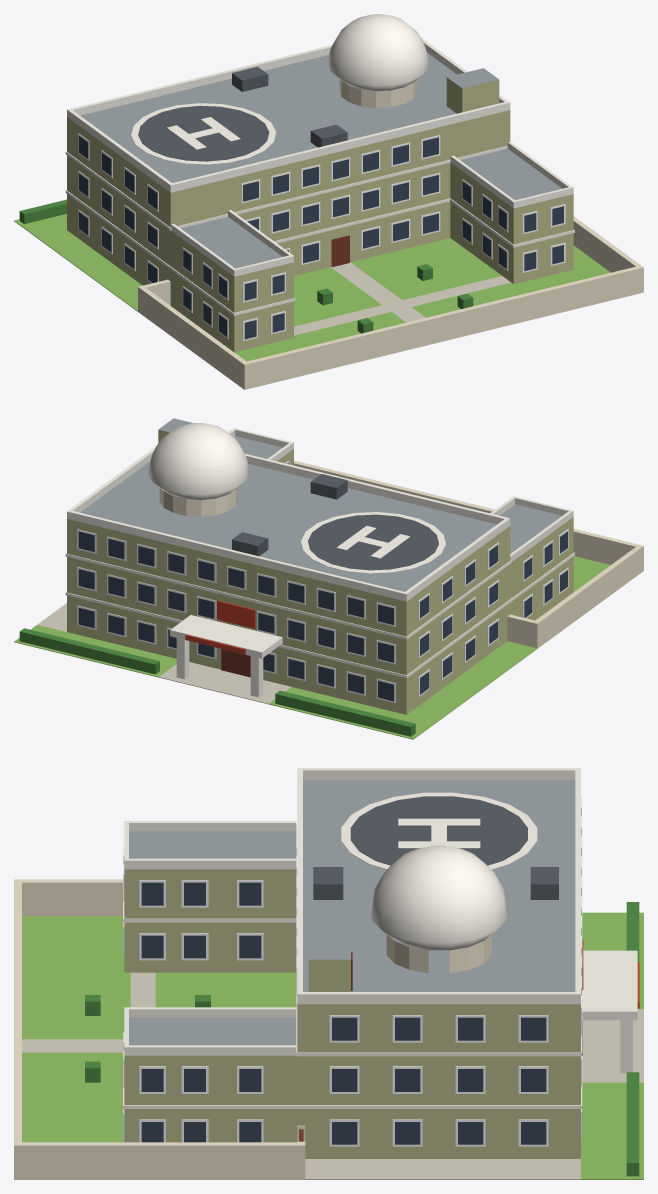
Rendered from militaryhq.glb.
The picture shows the model from 3 angles, top to bottom: view 1: azimuth 30°, elevation 25°; view 2: azimuth 150°, elevation 25°; view 3: azimuth 270°, elevation 25°; orthographic projection. The views are drawn at different scales.
Visible parts, largest first — view 1: wall (×11), roof (×4), lawn, parapet (×8), radar_dome, helipad, paving, band (×2), helipad_ring, radar_base, ac_unit (×2), helipad_h (+2 smaller); view 2: wall (×8), roof (×3), parapet (×7), lawn, radar_dome, helipad, hedge (×2), band (×2), paving, canopy, helipad_ring, ac_unit (×2) (+5 smaller); view 3: wall (×11), roof (×4), lawn, parapet (×8), paving, radar_dome, helipad, window_glass (×12), band (×4), canopy, hedge (×2), helipad_ring (+4 smaller).
Boxes of the visible parts, box(x1,y1,x2,y2) form: wall (×11): box(67, 77, 643, 389); roof (×4): box(80, 52, 561, 268); lawn: box(14, 214, 610, 361); parapet (×8): box(67, 45, 573, 274); radar_dome: box(328, 14, 428, 91); helipad: box(138, 105, 269, 161); paving: box(294, 262, 510, 335); band (×2): box(65, 145, 507, 268); helipad_ring: box(131, 103, 276, 164); radar_base: box(339, 79, 417, 107); ac_unit (×2): box(232, 66, 347, 147); helipad_h: box(167, 117, 240, 149); wall (×8): box(67, 460, 643, 714); roof (×3): box(80, 436, 561, 591); parapet (×7): box(67, 428, 573, 601); lawn: box(14, 556, 610, 739); radar_dome: box(148, 423, 249, 499); helipad: box(308, 514, 438, 570); hedge (×2): box(19, 628, 415, 736); band (×2): box(65, 553, 511, 678); paving: box(37, 603, 290, 704); canopy: box(170, 615, 282, 658); helipad_ring: box(301, 512, 445, 573); ac_unit (×2): box(232, 474, 347, 556); wall (×11): box(14, 869, 580, 1179); roof (×4): box(129, 780, 575, 1045); lawn: box(22, 912, 643, 1179); parapet (×8): box(129, 768, 580, 1055); paving: box(22, 972, 643, 1179); radar_dome: box(371, 845, 507, 950); helipad: box(350, 796, 527, 865); window_glass (×12): box(332, 1017, 546, 1144); band (×4): box(123, 825, 582, 1108); canopy: box(582, 950, 637, 1020); hedge (×2): box(626, 902, 639, 1176); helipad_ring: box(341, 792, 537, 869).
Size of the model in its own units: 40 by 17.9 by 40.
